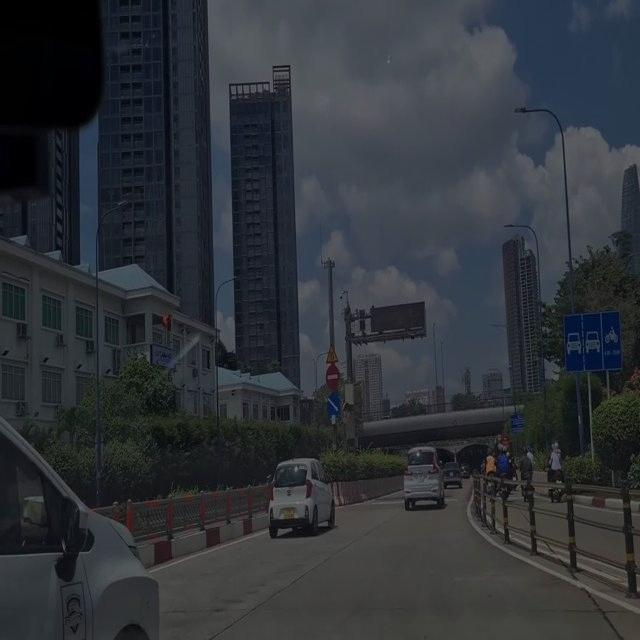Cấm đi ngược chiều: (322, 364, 340, 390)
Hướng phải đi vòng sang phải: (326, 390, 340, 416)
Làn đường cho từng xe: (563, 310, 623, 372)
Đường hẹp: (324, 342, 339, 365)
